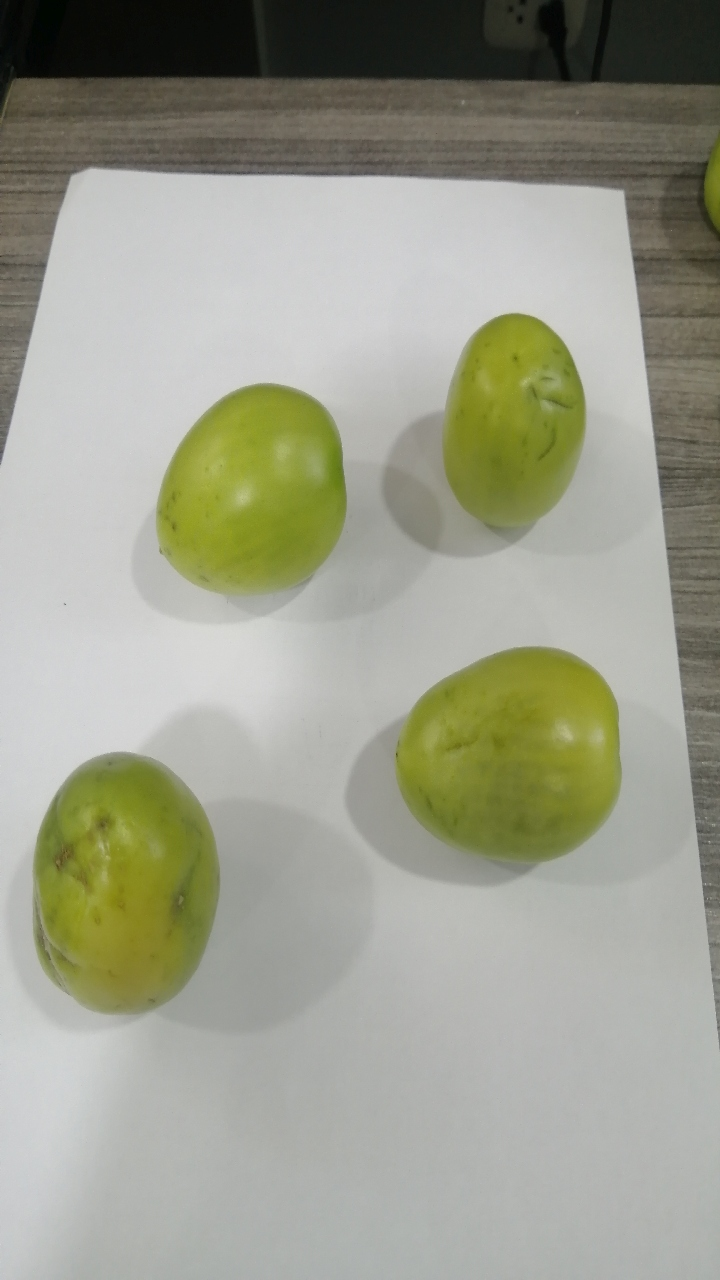tomateVerde: (366, 634, 648, 889), (9, 732, 248, 1020), (128, 366, 361, 611), (435, 286, 608, 543)
